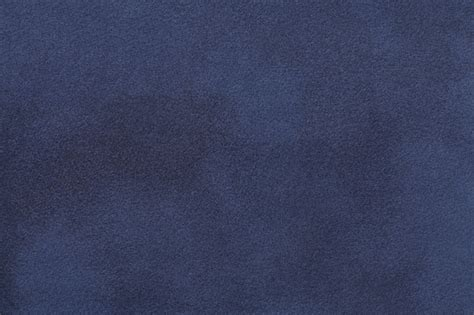gamuza: (1, 1, 474, 315)
